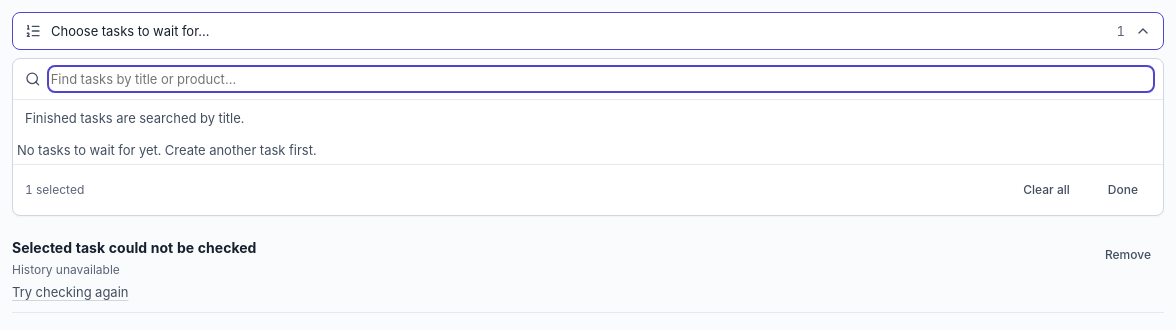
Test: rechecks an unavailable selection on the first click while the list is open
Press the mouse on the button "Try checking again" at (134, 292), box [12,282,256,302]
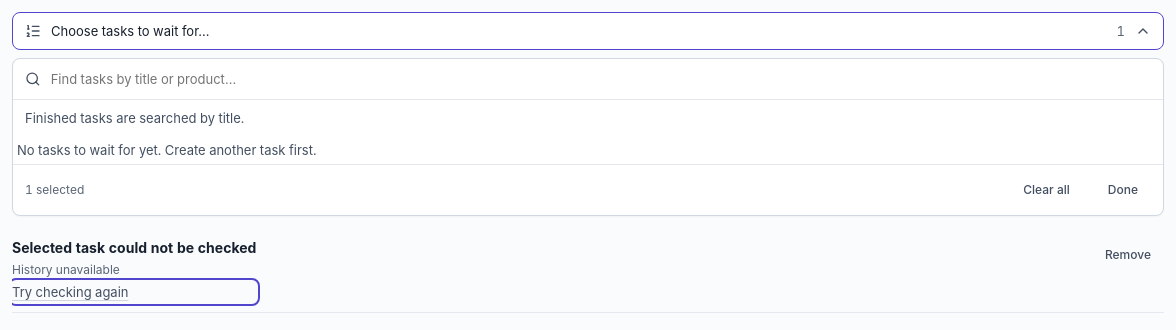
Expected: the element with class "dependency-results" is shown, [17,142,316,158]
Click the button "Try checking again" at (134, 292), box [12,282,256,302]
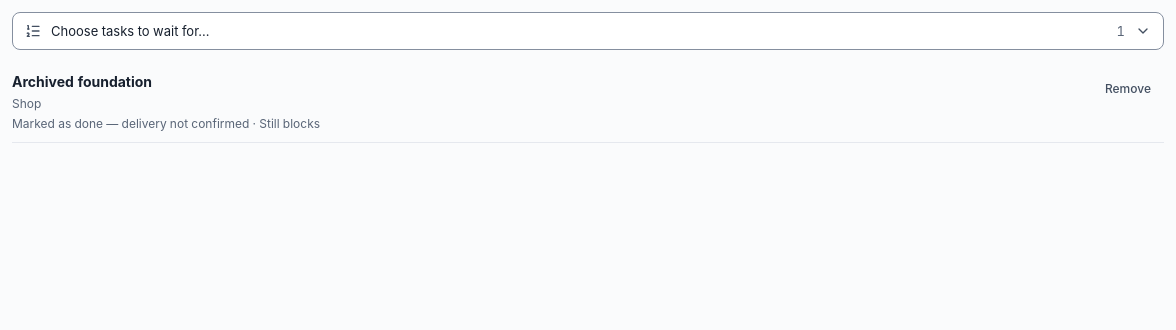
Expected: the list with class "dependency-selection" shows "Archived foundation", [12,73,152,90]
